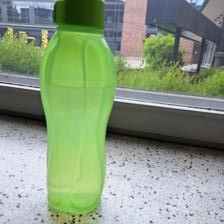bottle: (39, 0, 119, 220)
